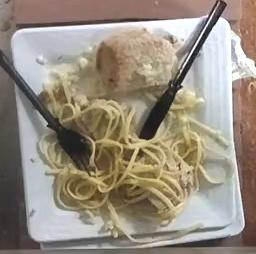pasta: (40, 84, 203, 220)
unknown: (96, 30, 176, 94)
